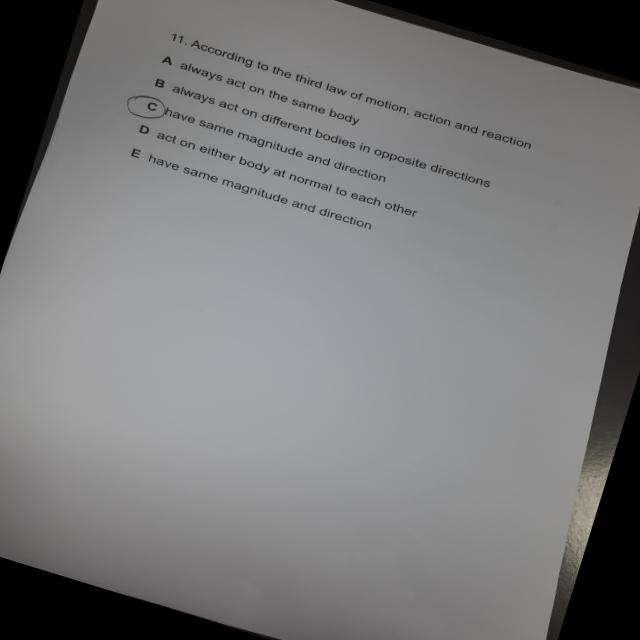C: (122, 89, 174, 130)
